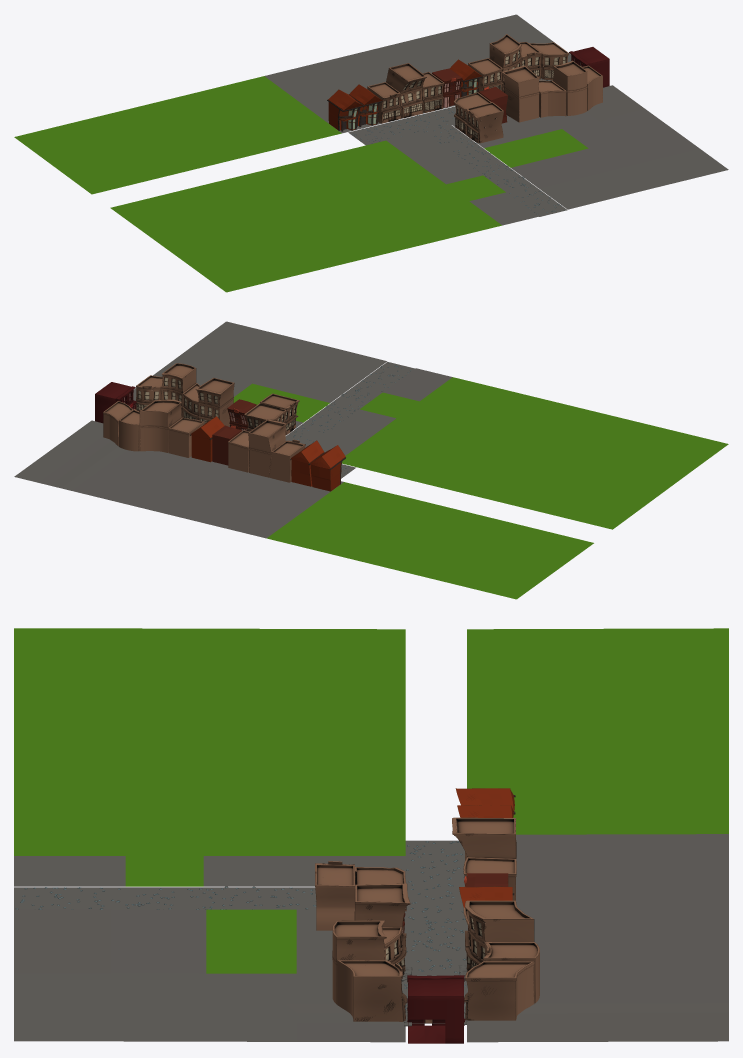
File: MainLevel+Buildings.fbx
The picture shows the model from 3 angles, top to bottom: view 1: azimuth 30°, elevation 25°; view 2: azimuth 150°, elevation 25°; view 3: azimuth 270°, elevation 25°; orthographic projection. The views are drawn at different scales.
Parts seen in each view (by area): view 1: Plane, Road, Shop_02.003, Shop_02, Shop_02.002, Shop_01.001, Cube.010, Shop_02.001, Shop_03.003, Shop_01, Cube.042, Bar (+8 smaller); view 2: Plane, Road, Shop_02.001, Shop_02, Shop_02.003, Cube.010, Shop_02.002, Shop_03, Bar, Shop_01, Cube.004, Cube.042 (+9 smaller); view 3: Plane, Road, Shop_01.003, Bar, Shop_03.001, Shop_02.001, Shop_01.001, Shop_02, Shop_02.002, Shop_02.003, Shop_01.002, Shop_03.002 (+5 smaller).
Part boxes in pixels (bbox=[...]): Plane: bbox=[14, 14, 728, 292]; Road: bbox=[348, 106, 567, 216]; Shop_02.003: bbox=[501, 65, 539, 122]; Shop_02: bbox=[386, 63, 426, 118]; Shop_02.002: bbox=[552, 60, 587, 115]; Shop_01.001: bbox=[465, 102, 503, 143]; Cube.010: bbox=[327, 89, 363, 131]; Shop_02.001: bbox=[489, 34, 521, 92]; Shop_03.003: bbox=[539, 80, 566, 117]; Shop_01: bbox=[367, 82, 401, 123]; Cube.042: bbox=[349, 84, 383, 126]; Bar: bbox=[569, 47, 609, 87]; Plane: bbox=[14, 321, 728, 599]; Road: bbox=[285, 362, 414, 478]; Shop_02.001: bbox=[139, 399, 181, 452]; Shop_02: bbox=[248, 419, 286, 477]; Shop_02.003: bbox=[195, 377, 234, 426]; Cube.010: bbox=[309, 445, 345, 491]; Shop_02.002: bbox=[161, 363, 196, 417]; Shop_03: bbox=[168, 417, 204, 457]; Bar: bbox=[95, 382, 136, 423]; Shop_01: bbox=[269, 439, 305, 482]; Cube.004: bbox=[190, 416, 224, 462]; Cube.042: bbox=[290, 440, 324, 486]; Plane: bbox=[14, 628, 728, 1042]; Road: bbox=[14, 840, 467, 1021]; Shop_01.003: bbox=[337, 960, 406, 1021]; Bar: bbox=[407, 975, 465, 1043]; Shop_03.001: bbox=[464, 961, 534, 1020]; Shop_02.001: bbox=[465, 900, 534, 971]; Shop_01.001: bbox=[315, 861, 355, 930]; Shop_02: bbox=[452, 817, 516, 858]; Shop_02.002: bbox=[332, 920, 386, 1004]; Shop_02.003: bbox=[354, 883, 410, 950]; Shop_01.002: bbox=[483, 942, 539, 1003]; Shop_03.002: bbox=[463, 857, 516, 900].
Size of the model in its own units: 12455 by 1000 by 9112.
